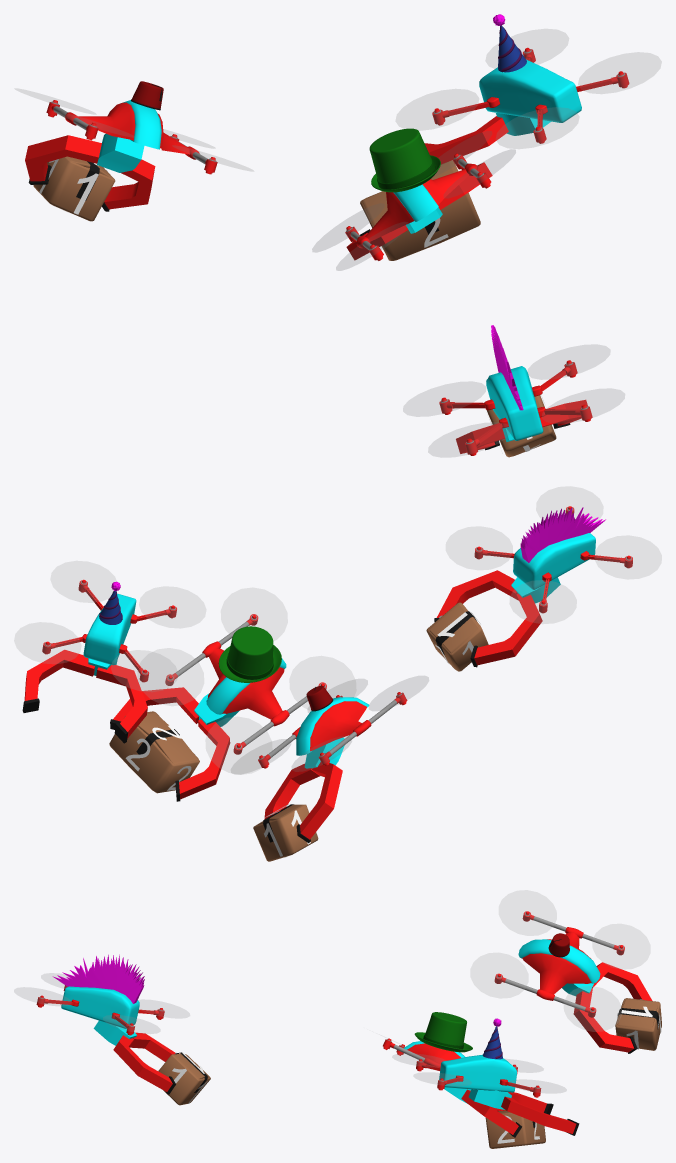
Rendered from Action_Shot_Export.FBX.
3 views of the same model, one above another, from view 1: azimuth 30°, elevation 25°; view 2: azimuth 150°, elevation 25°; view 3: azimuth 270°, elevation 25° (orthographic). The views are drawn at different scales.
Parts seen in each view (by area): view 1: Box057, Box059, Plane032, Plane031, Object046, Box063, Cylinder046, Box064, Object045, Object044, Object043, Box062; view 2: Plane032, Box059, Box057, Plane031, Box063, Object043, Object044, Object045, Object046, Cylinder046, Box062, Box064; view 3: Plane031, Box059, Box057, Object046, Object043, Object045, Box064, Box062, Cylinder046, Box063, Plane032, Object044.
Boxes of the visible parts, box(x1,y1,x2,y2) form: Box057: box(396, 14, 661, 148); Box059: box(403, 325, 624, 457); Plane032: box(312, 131, 515, 270); Plane031: box(15, 81, 253, 174); Object046: box(25, 134, 155, 211); Box063: box(360, 160, 480, 260); Cylinder046: box(369, 128, 440, 192); Box064: box(33, 156, 115, 221); Object045: box(424, 113, 550, 164); Object044: box(346, 162, 492, 260); Object043: box(456, 399, 587, 453); Box062: box(486, 395, 556, 457); Plane032: box(137, 588, 355, 774); Box059: box(446, 486, 661, 623); Box057: box(14, 561, 205, 691); Plane031: box(231, 676, 428, 774); Box063: box(109, 711, 199, 793); Object043: box(434, 570, 560, 667); Object044: box(110, 687, 239, 801); Object045: box(22, 649, 147, 743); Object046: box(264, 737, 344, 843); Cylinder046: box(218, 626, 281, 682); Box062: box(426, 602, 488, 671); Box064: box(253, 804, 318, 861); Plane031: box(470, 890, 650, 1031); Box059: box(14, 954, 189, 1035); Box057: box(392, 1018, 566, 1097); Object046: box(562, 962, 652, 1053); Object043: box(93, 1020, 175, 1094); Object045: box(468, 1089, 579, 1135); Box064: box(615, 998, 661, 1050); Box062: box(158, 1052, 210, 1105); Cylinder046: box(414, 1012, 472, 1052); Box063: box(485, 1110, 545, 1148); Plane032: box(383, 1038, 465, 1067); Object044: box(444, 1087, 521, 1137).
Bounding box in the file's own units: 373 × 156 × 571.
